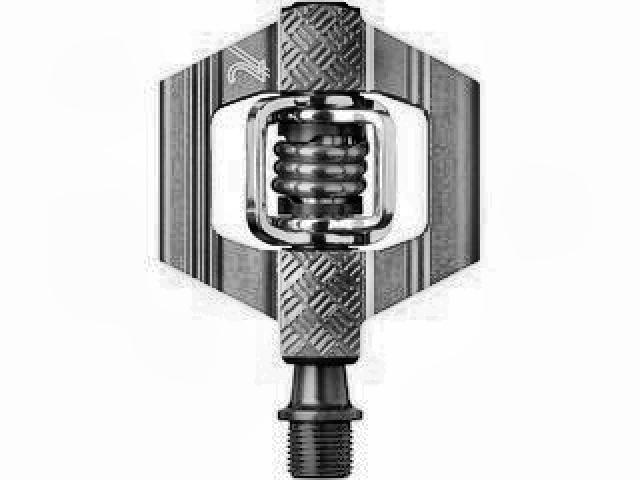pedal: (155, 4, 481, 480)
